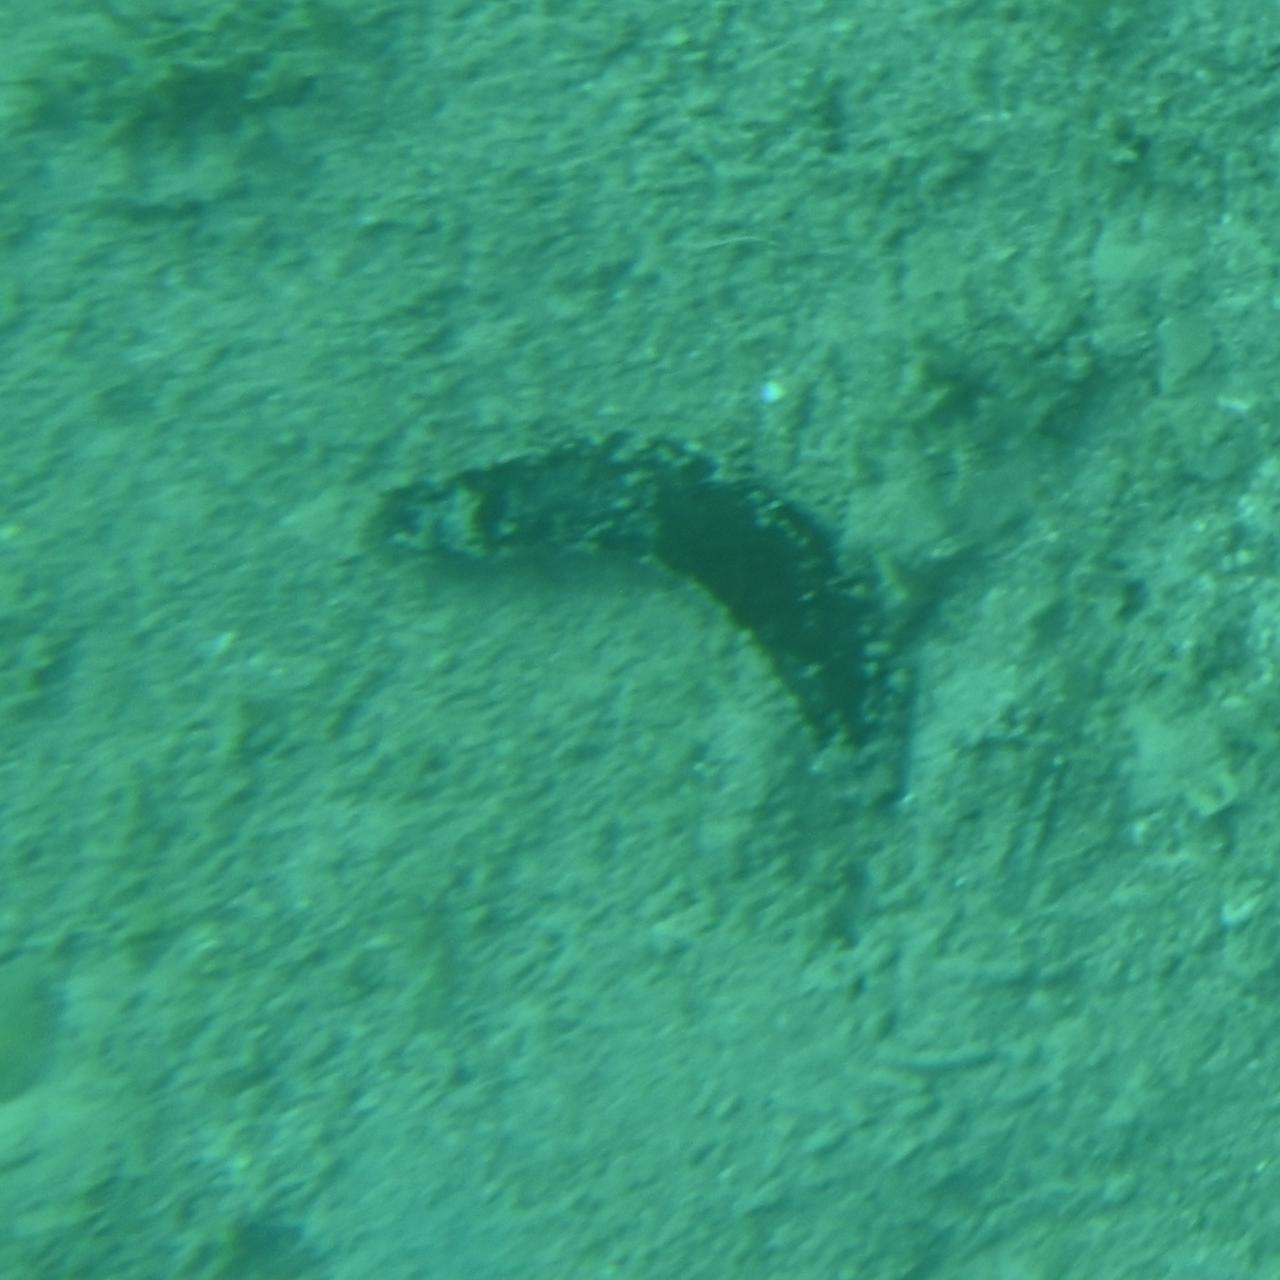Holothuria tubulosa: (356, 444, 924, 836)
